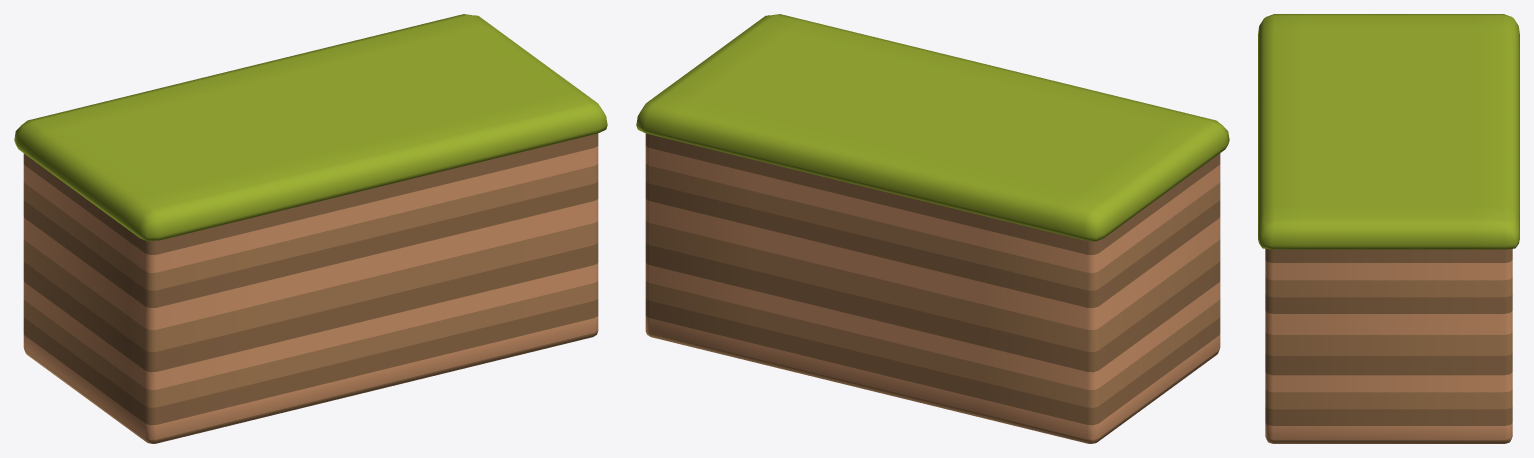
File: platform01.glb
3 renders of one model, left to right at view 1: azimuth 30°, elevation 25°; view 2: azimuth 150°, elevation 25°; view 3: azimuth 270°, elevation 25°, orthographic. The views are drawn at different scales.
Parts seen in each view (by area): view 1: Cube_Grass_SideBottom_Tall.044_0.001; view 2: Cube_Grass_SideBottom_Tall.044_0.001; view 3: Cube_Grass_SideBottom_Tall.044_0.001.
Part boxes in pixels (x1,y1,x2,y2): Cube_Grass_SideBottom_Tall.044_0.001: (14,14,607,443); Cube_Grass_SideBottom_Tall.044_0.001: (636,14,1229,443); Cube_Grass_SideBottom_Tall.044_0.001: (1258,14,1519,443).
Size of the model in its own units: 8.31 by 4 by 4.23.
